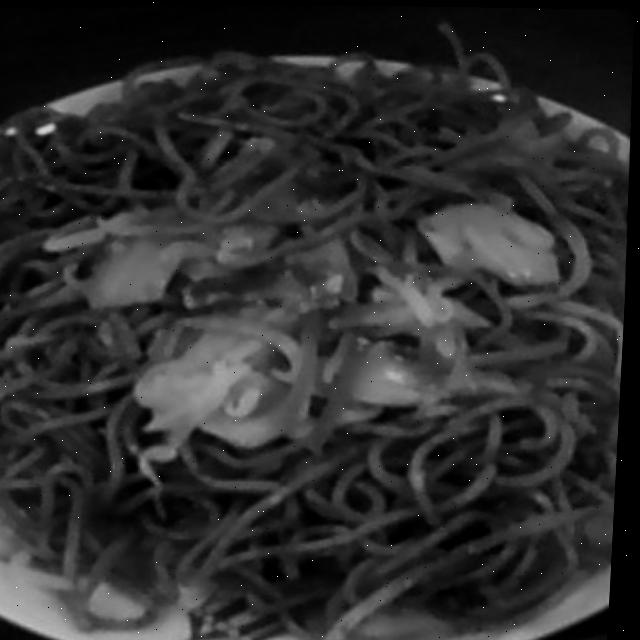面条主食: (0, 33, 639, 640)
